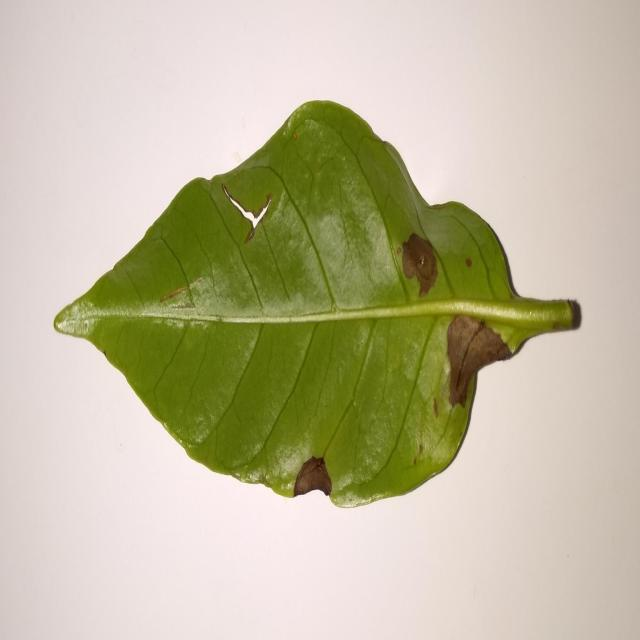Enfermedad-Antracnosis: (52, 101, 584, 512)
